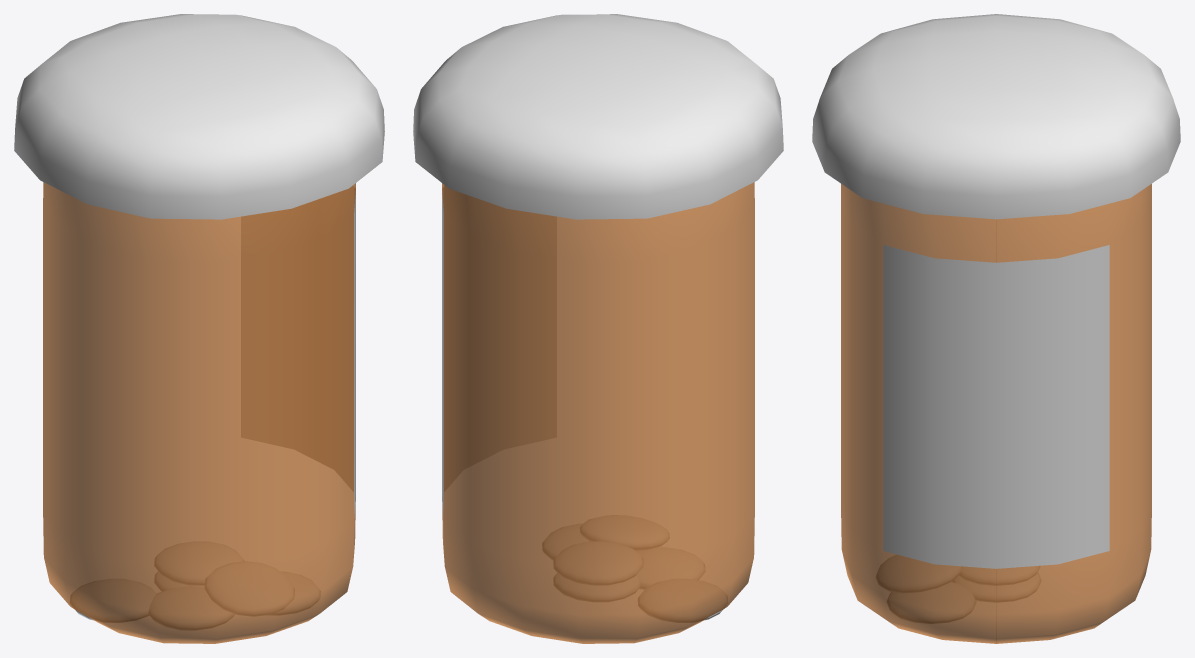
The model's file is Meds.glb.
3 renders of one model, left to right at view 1: azimuth 30°, elevation 25°; view 2: azimuth 150°, elevation 25°; view 3: azimuth 270°, elevation 25°, orthographic.
Parts seen in each view (by area): view 1: Cube; view 2: Cube; view 3: Cube.
Boxes of the visible parts, x1,y1,x2,y2 form: Cube: (14,14,384,643); Cube: (413,14,783,643); Cube: (812,14,1180,643).
Size of the model in its own units: 2.17 by 3.49 by 2.17.
